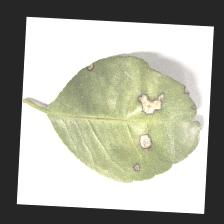greening: (84, 60, 168, 175)
